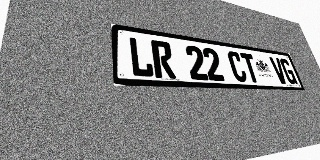2: (184, 45, 209, 80), (201, 47, 225, 81)
C: (226, 51, 248, 82)
G: (279, 58, 298, 84)
L: (128, 36, 155, 78)
R: (150, 40, 176, 79)
T: (240, 52, 261, 83)
V: (269, 57, 289, 84)
